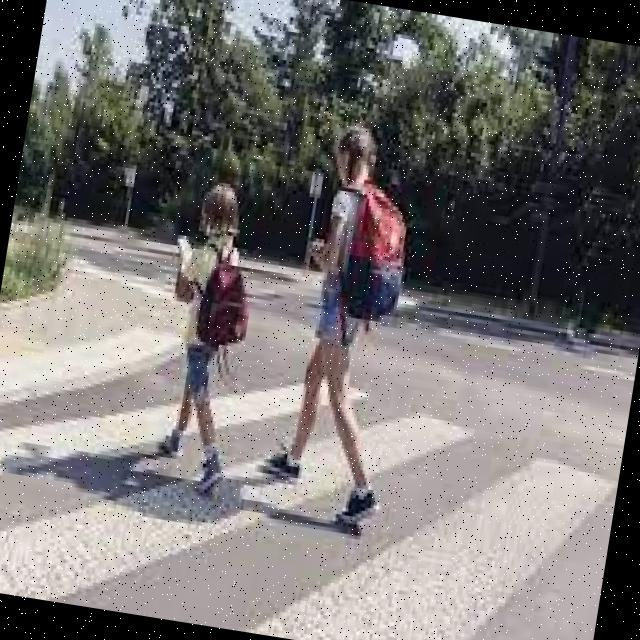Person: (254, 117, 436, 528), (140, 180, 273, 498)
